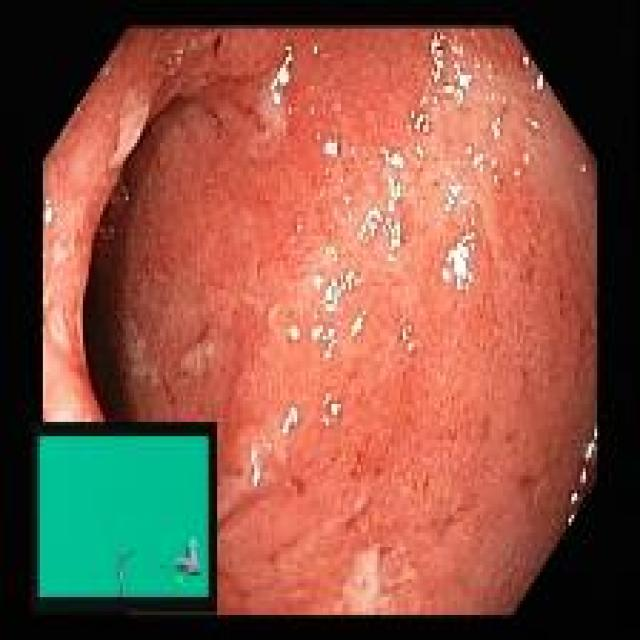ulcerative-colitis: (44, 28, 598, 615)
